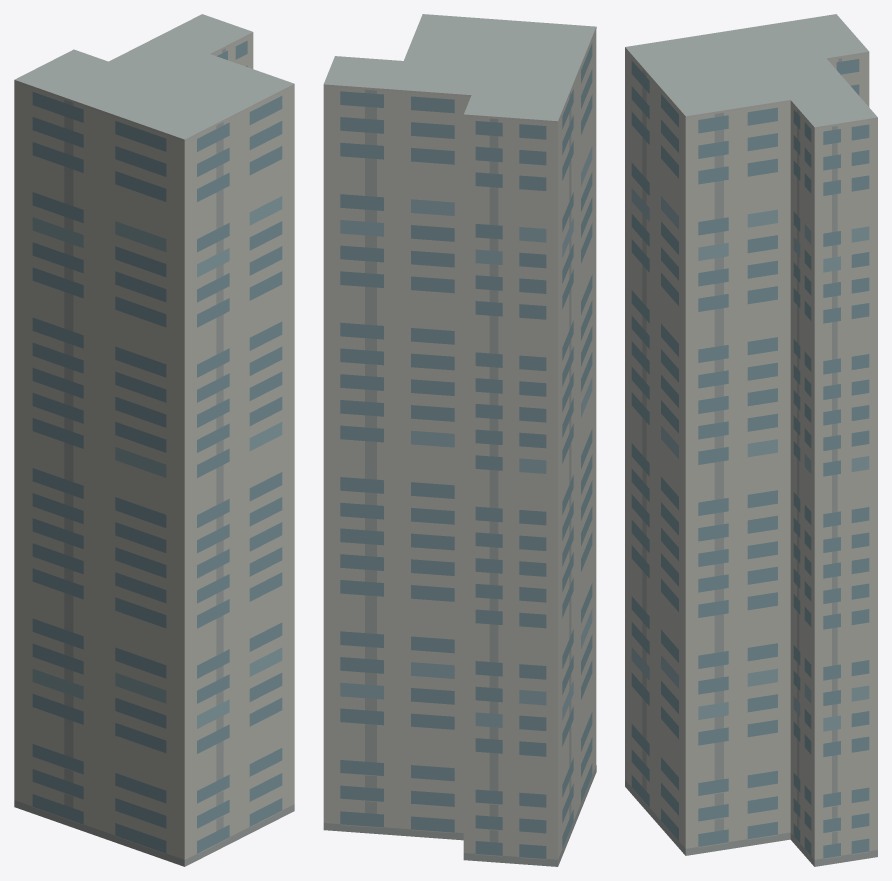
The model's file is residential-ba8ba5d6-cd19-437c-9e02-910e2daec5a1.glb.
The picture shows the model from 3 angles, left to right: view 1: azimuth 30°, elevation 25°; view 2: azimuth 150°, elevation 25°; view 3: azimuth 270°, elevation 25°; orthographic projection. The views are drawn at different scales.
Parts seen in each view (by area): view 1: residential-ba8ba5d6-cd19-437c-9e02-910e2daec5a1.tmp; view 2: residential-ba8ba5d6-cd19-437c-9e02-910e2daec5a1.tmp; view 3: residential-ba8ba5d6-cd19-437c-9e02-910e2daec5a1.tmp.
Boxes of the visible parts, x1=… form: residential-ba8ba5d6-cd19-437c-9e02-910e2daec5a1.tmp: x1=14, y1=14, x2=294, y2=866; residential-ba8ba5d6-cd19-437c-9e02-910e2daec5a1.tmp: x1=323, y1=14, x2=596, y2=866; residential-ba8ba5d6-cd19-437c-9e02-910e2daec5a1.tmp: x1=625, y1=14, x2=877, y2=866.
Bounding box in the file's own units: 26.95 × 82 × 25.41.
